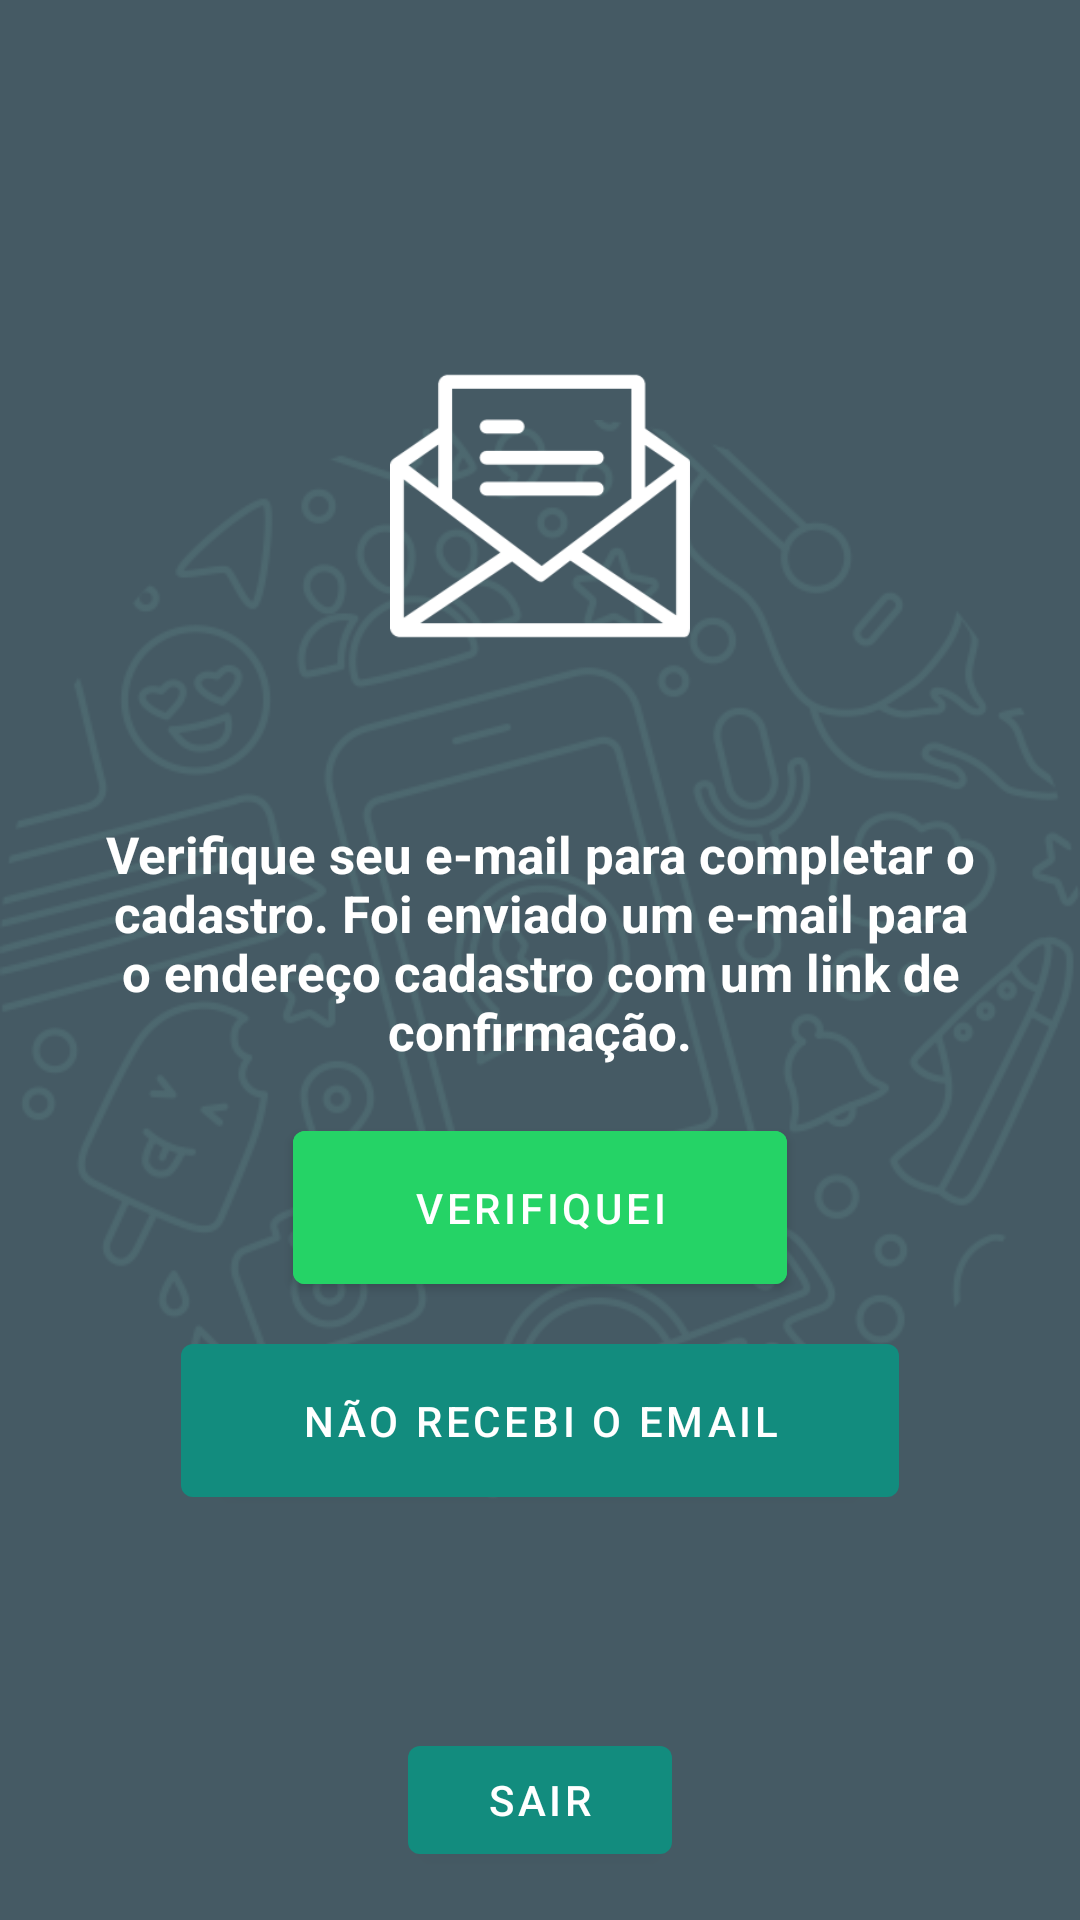

Where icons sit on this 1080×1920 app screen, as detection(x1, y1, x2, y2):
email: detection(390, 374, 690, 638)
